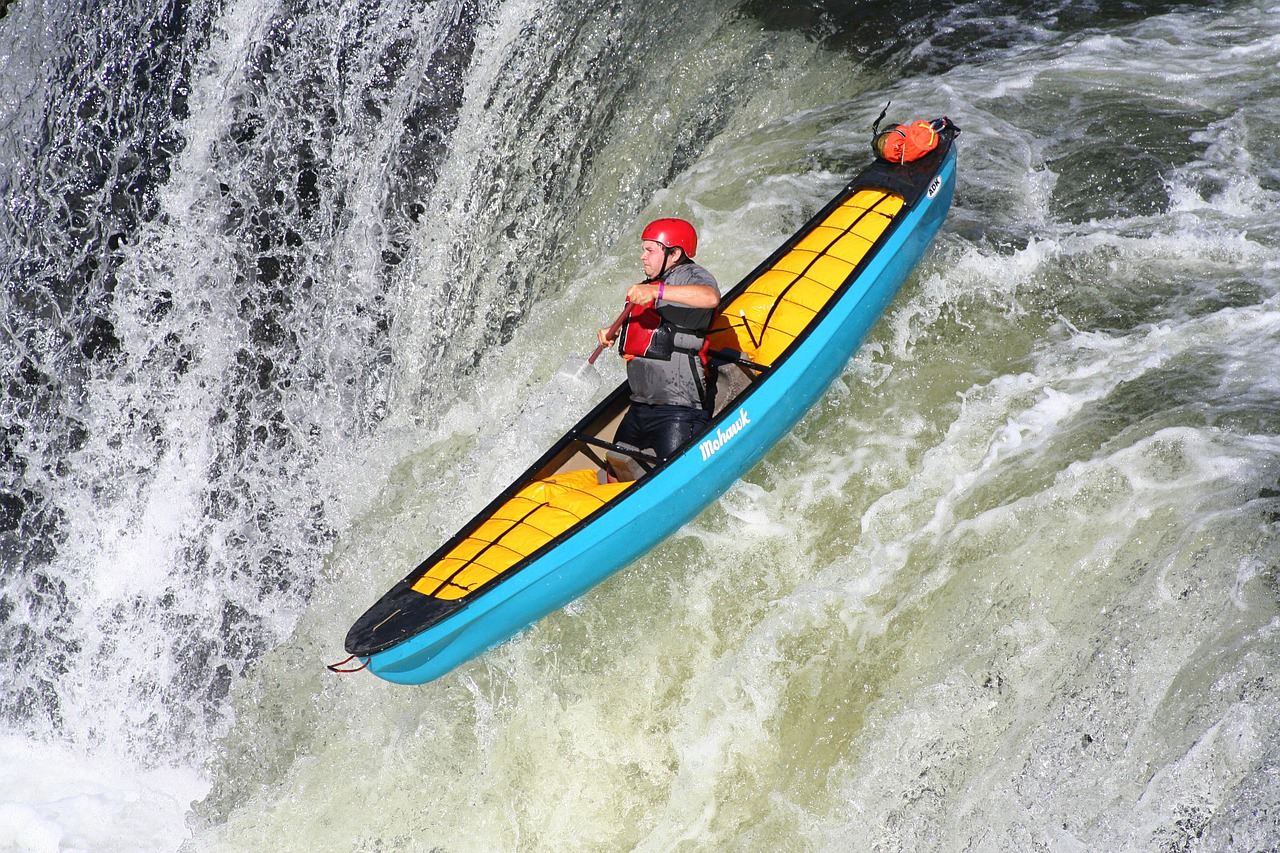kayak: (329, 109, 962, 696)
